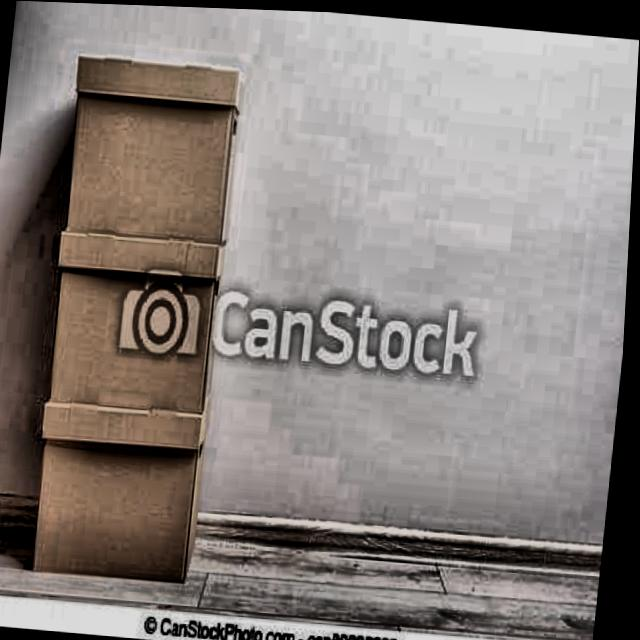Cardbox: (24, 214, 237, 439), (48, 43, 266, 253), (26, 390, 218, 587)
